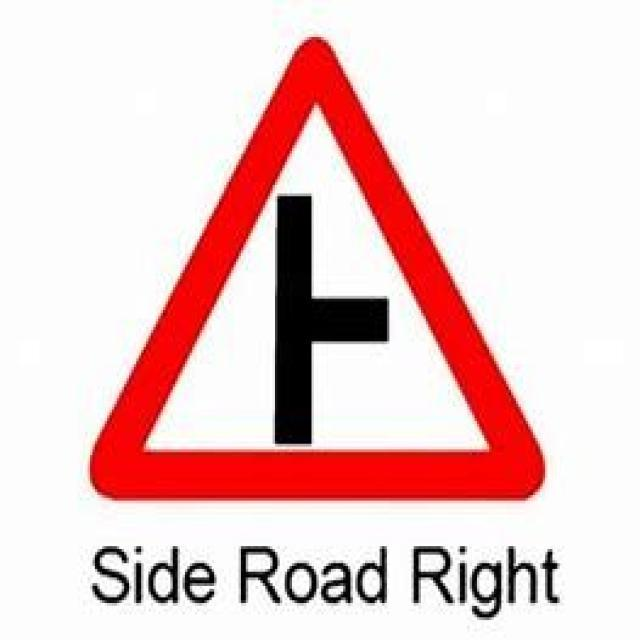side road right: (88, 38, 549, 503)
